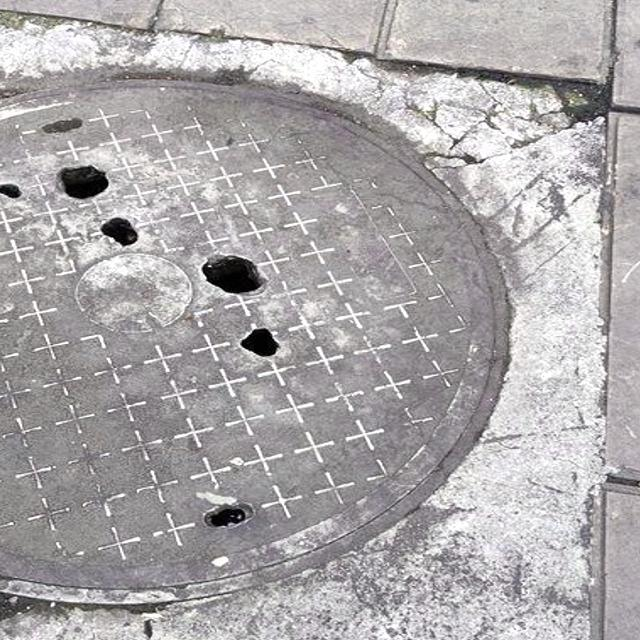broke: (0, 80, 505, 601)
